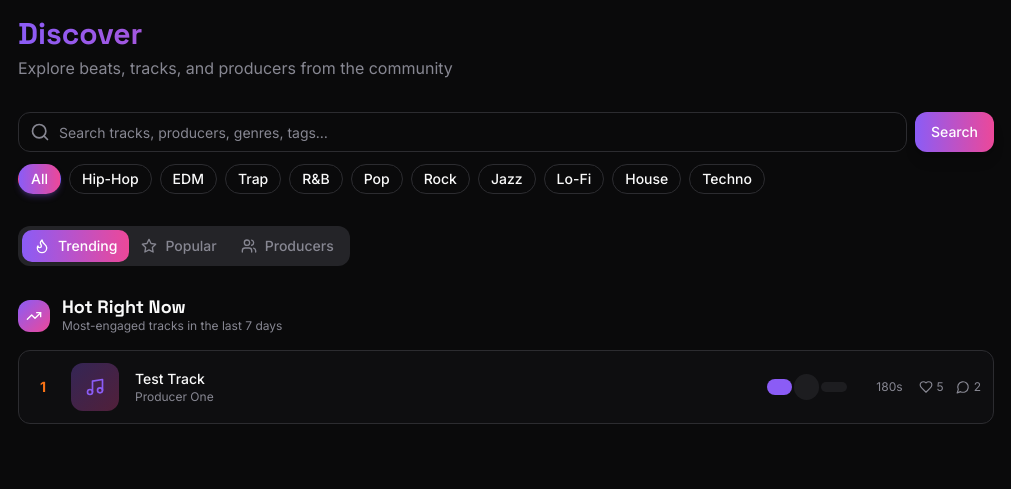
Discover page › shows empty track search results when nothing found
expect the heading "Discover" is shown: met, box [18, 16, 994, 52]
In the field with placeholder "Search tracks, producers, genres, tags…": coordinates (462, 132) [18, 112, 907, 152], type "xyznonexistent"
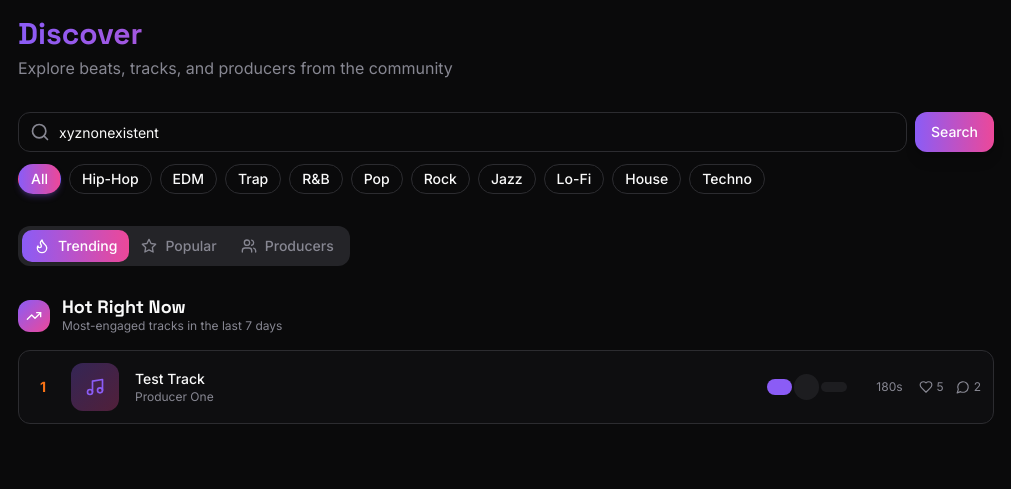
Submit the form with placeholder "search tracks", box [18, 112, 994, 152]
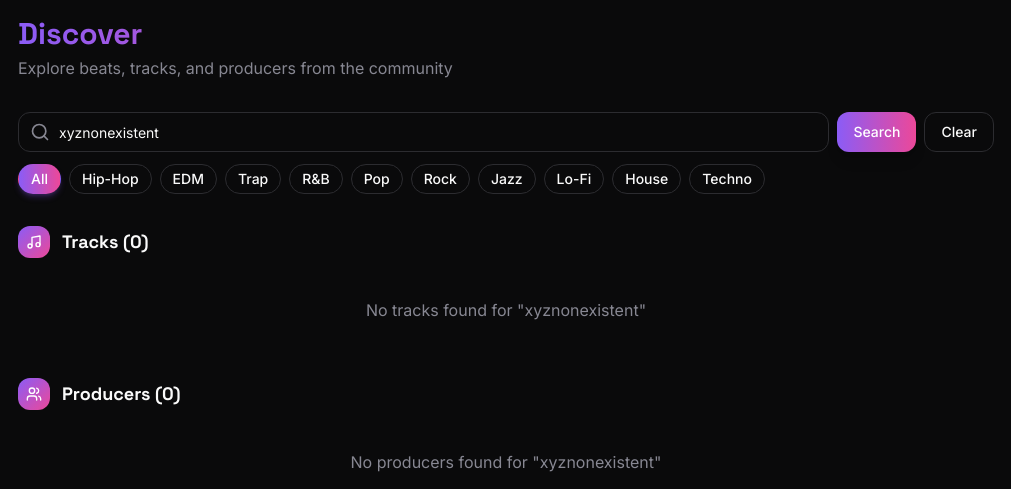
expect the text "No tracks found for \"xyznonexistent\"" is shown: met, box [366, 300, 646, 320]
